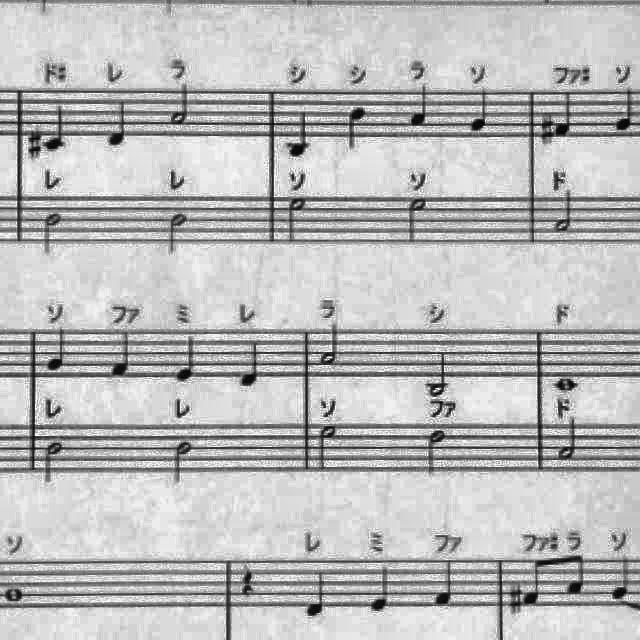Diez: (507, 580, 525, 618), (26, 126, 44, 160), (537, 114, 555, 148)
Eighth-note: (520, 556, 546, 612), (561, 552, 587, 600)
Full-note: (552, 372, 582, 396)
Half-note: (403, 192, 433, 248), (282, 190, 310, 246), (314, 421, 342, 475), (554, 415, 584, 465), (423, 348, 452, 399), (168, 436, 196, 488), (40, 208, 68, 260), (39, 437, 67, 487), (423, 426, 449, 478), (550, 188, 578, 236), (317, 320, 343, 370), (167, 209, 193, 259), (168, 80, 194, 128)
Quarter-note: (302, 566, 334, 622), (284, 106, 316, 162), (431, 556, 462, 612), (367, 562, 397, 616), (605, 553, 637, 603), (172, 330, 200, 386), (238, 336, 266, 392), (108, 327, 136, 381), (41, 324, 70, 376), (41, 101, 68, 155), (344, 104, 372, 156), (105, 97, 131, 151), (552, 87, 578, 141), (466, 84, 492, 136), (408, 81, 434, 131), (612, 84, 638, 134)
Quarter-rest: (236, 562, 260, 602)
